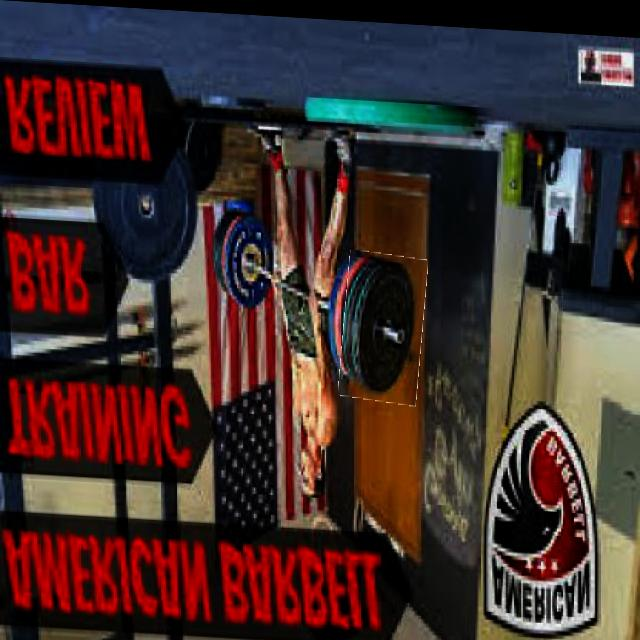barbell: (342, 247, 426, 401)
